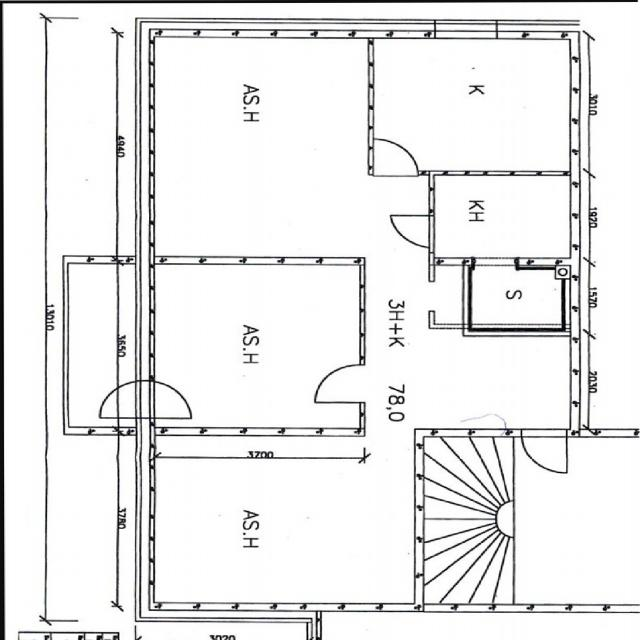door: (88, 380, 155, 418), (135, 380, 201, 418), (522, 428, 566, 474), (314, 268, 365, 306), (368, 428, 412, 472), (375, 136, 418, 175), (475, 227, 513, 265), (389, 201, 434, 233), (394, 282, 434, 310)
